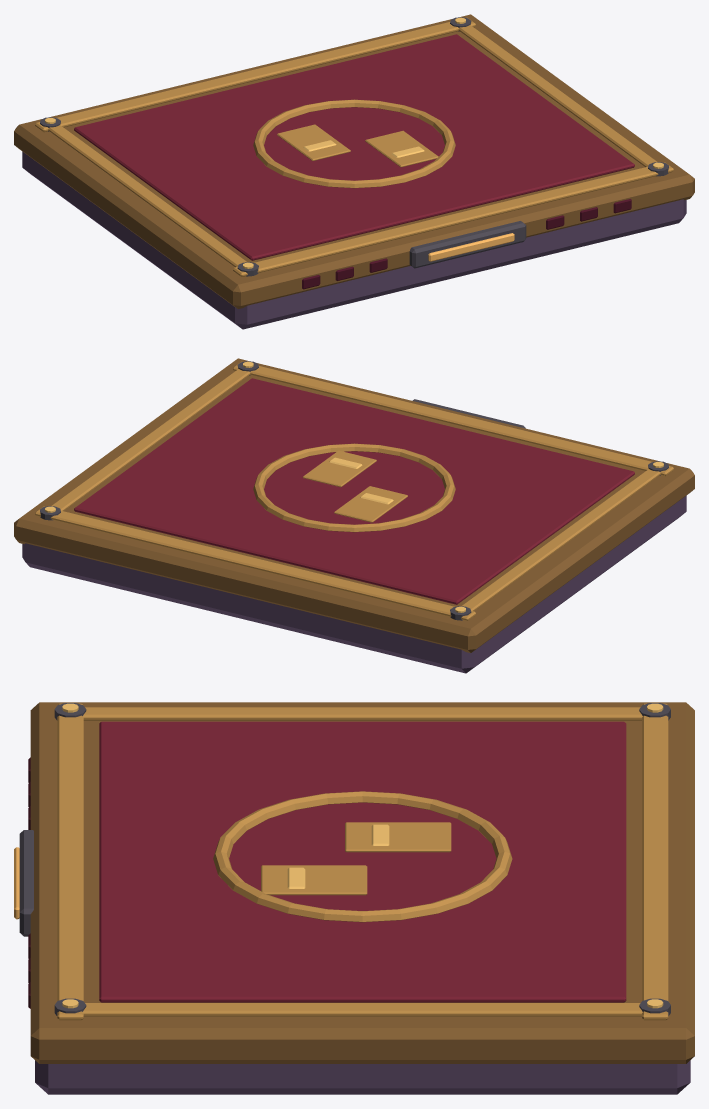
The model's file is SM_S3Take_PressurePlate.fbx.
3 renders of one model, top to bottom at view 1: azimuth 30°, elevation 25°; view 2: azimuth 150°, elevation 25°; view 3: azimuth 270°, elevation 25°, orthographic. The views are drawn at different scales.
Parts seen in each view (by area): view 1: SM_S3Take_PressurePlate; view 2: SM_S3Take_PressurePlate; view 3: SM_S3Take_PressurePlate.
Part boxes in pixels (bbox=[...]): SM_S3Take_PressurePlate: bbox=[14, 14, 694, 329]; SM_S3Take_PressurePlate: bbox=[14, 358, 694, 673]; SM_S3Take_PressurePlate: bbox=[14, 702, 694, 1094].
Size of the model in its own units: 178 by 154 by 21.4.
